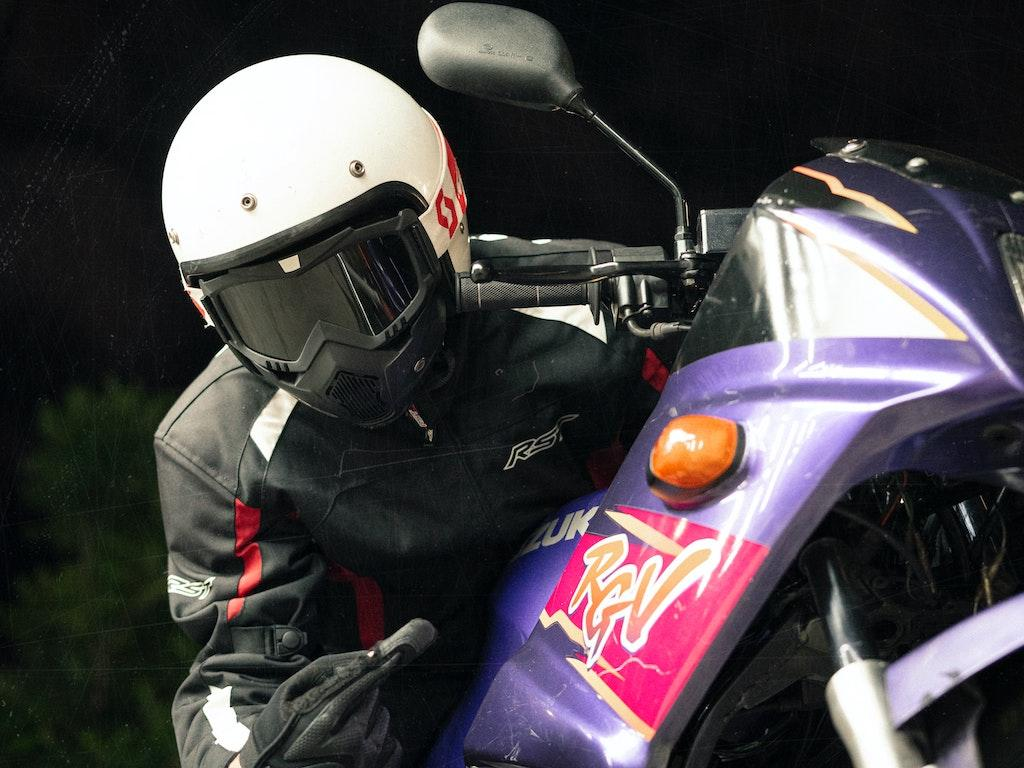helmet: (160, 51, 472, 431)
